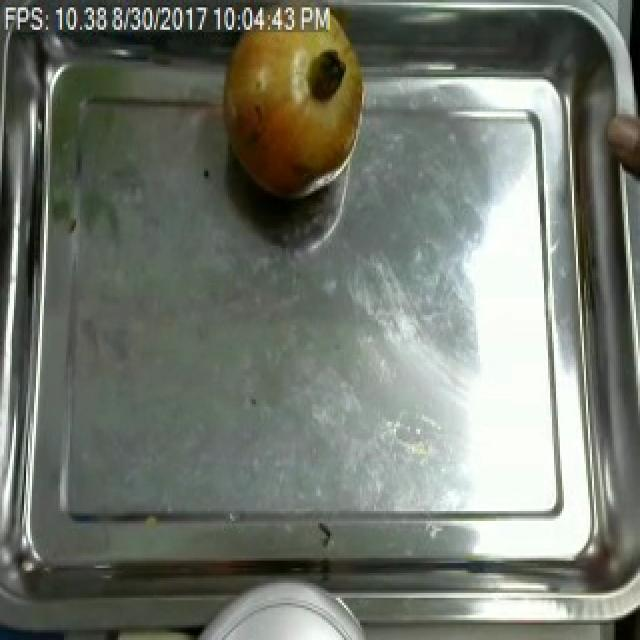fruit: (212, 5, 370, 208), (604, 94, 640, 194)
